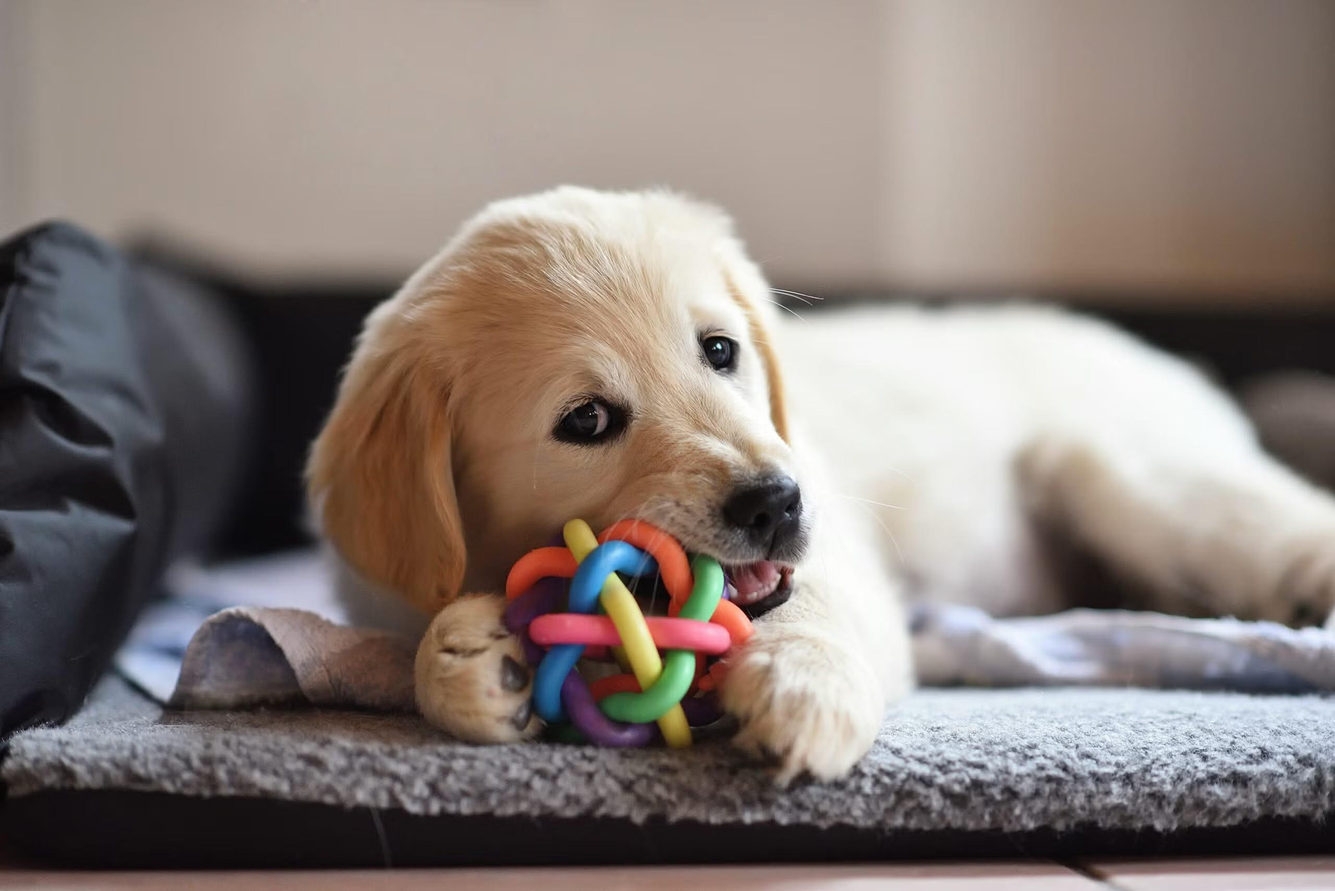puppy-dog: (295, 184, 1335, 790)
